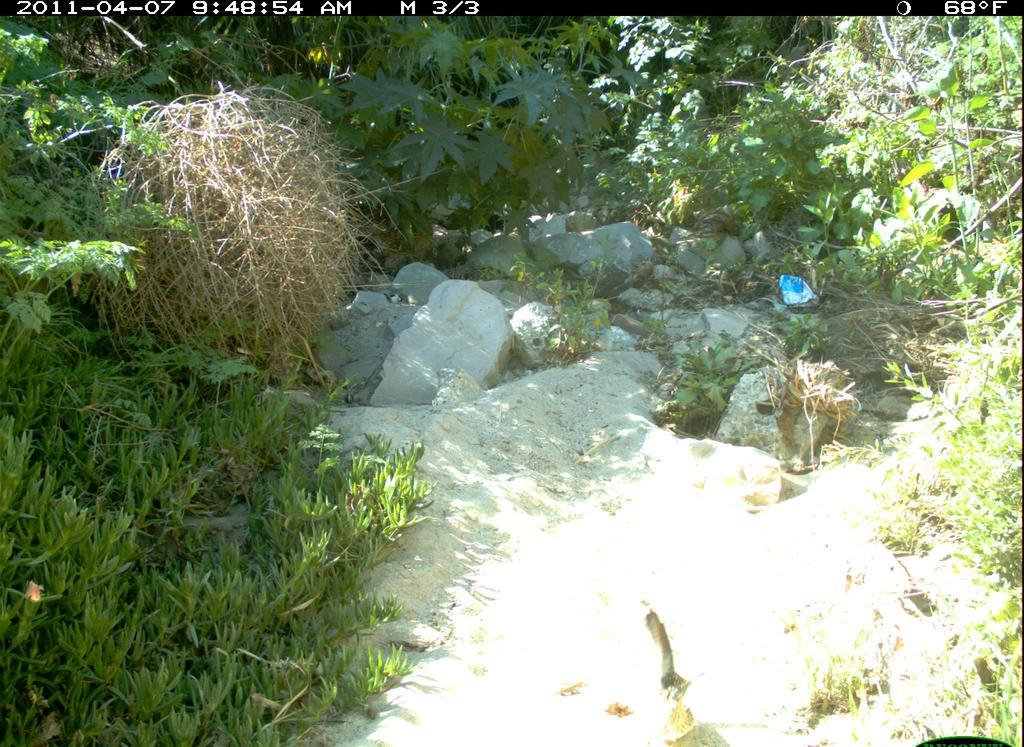bird: (649, 605, 692, 706)
